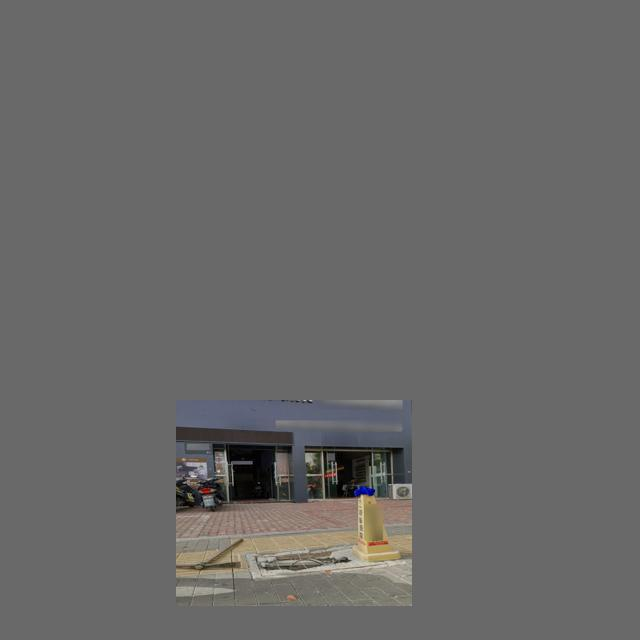broke: (243, 544, 392, 578)
